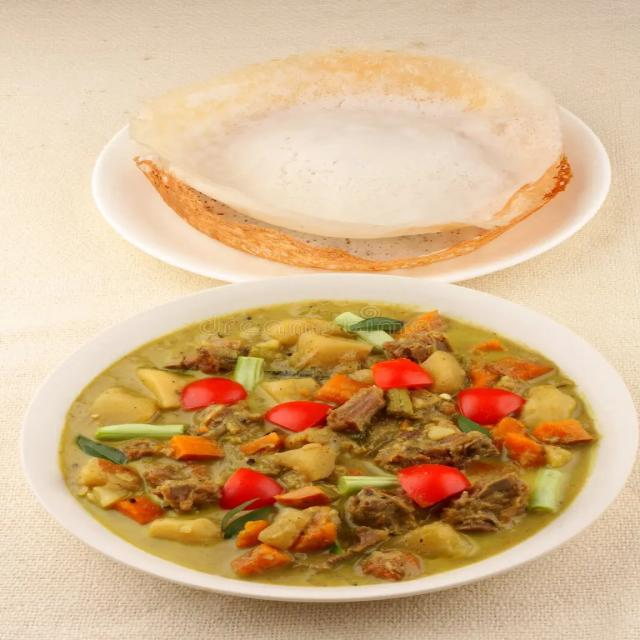AAPAM: (133, 49, 572, 273)
CURRY: (61, 303, 600, 587)
